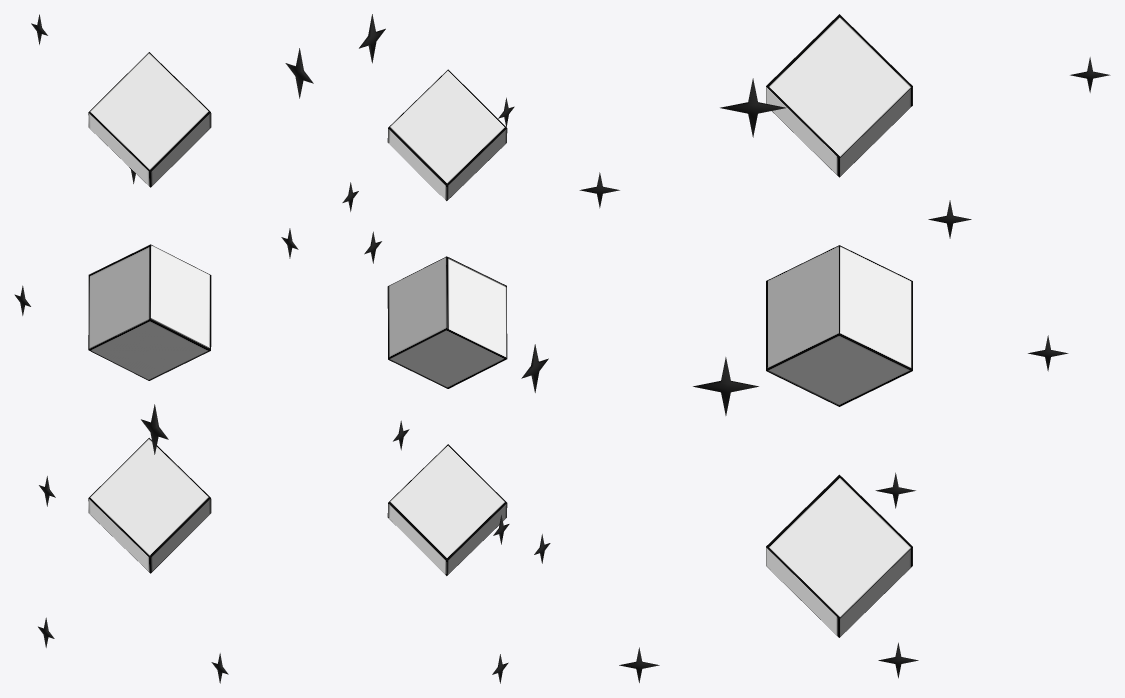
The model's file is contactModels.glb.
3 views of the same model, side by side, from view 1: azimuth 30°, elevation 25°; view 2: azimuth 150°, elevation 25°; view 3: azimuth 270°, elevation 25° (orthographic). The views are drawn at different scales.
Visible parts, largest first — view 1: cubeOne, cubeTwo, cubeThree; view 2: cubeOne, cubeTwo, cubeThree, Star 01 - TR.002, Star 01 - TR.001; view 3: cubeOne, cubeThree, cubeTwo.
Boxes of the visible parts, left/top/right/bottom form: cubeOne: left=88, top=244, right=211, bottom=380; cubeTwo: left=88, top=52, right=211, bottom=187; cubeThree: left=88, top=438, right=211, bottom=573; cubeOne: left=387, top=256, right=507, bottom=388; cubeTwo: left=387, top=69, right=507, bottom=200; cubeThree: left=387, top=444, right=507, bottom=575; Star 01 - TR.002: left=359, top=14, right=385, bottom=63; Star 01 - TR.001: left=521, top=344, right=548, bottom=392; cubeOne: left=766, top=245, right=912, bottom=406; cubeThree: left=766, top=474, right=912, bottom=637; cubeTwo: left=766, top=14, right=912, bottom=177.
Bounding box in the file's own units: 4.26 × 12.4 × 8.37.
2 materials, 1 textured.
